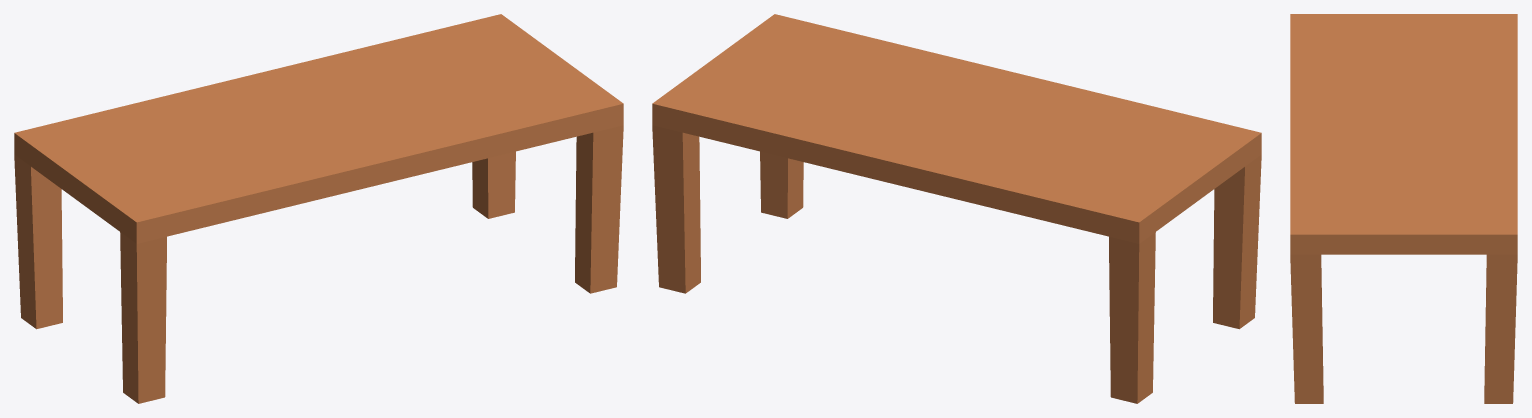
Rendered from Table.fbx.
3 views of the same model, side by side, from view 1: azimuth 30°, elevation 25°; view 2: azimuth 150°, elevation 25°; view 3: azimuth 270°, elevation 25° (orthographic). The views are drawn at different scales.
Parts seen in each view (by area): view 1: Cube; view 2: Cube; view 3: Cube.
Boxes of the visible parts, x1,y1,x2,y2 form: Cube: [14, 14, 623, 403]; Cube: [652, 14, 1261, 403]; Cube: [1290, 14, 1517, 403].
Bounding box in the file's own units: 947 × 343 × 413.
